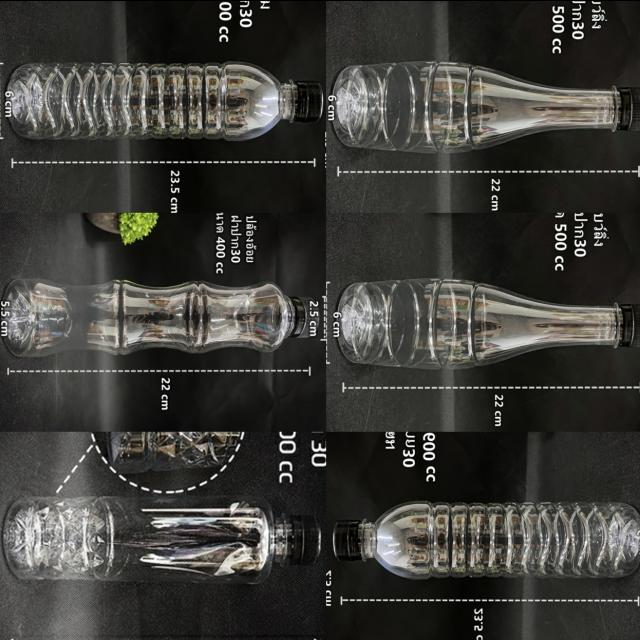plastik: (331, 61, 640, 152), (3, 496, 319, 583), (339, 278, 640, 369), (6, 61, 323, 140), (3, 279, 319, 355), (334, 501, 640, 578)
